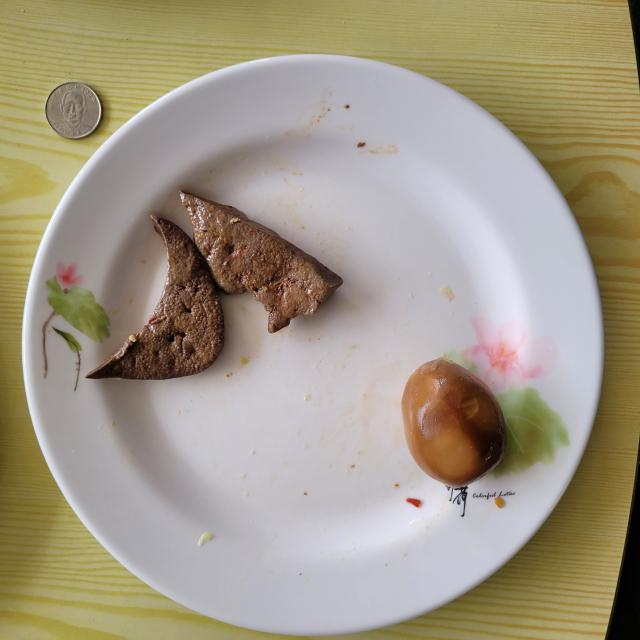coin: (45, 82, 102, 139)
pig liver: (86, 191, 342, 380)
soy egg: (401, 358, 506, 488)
